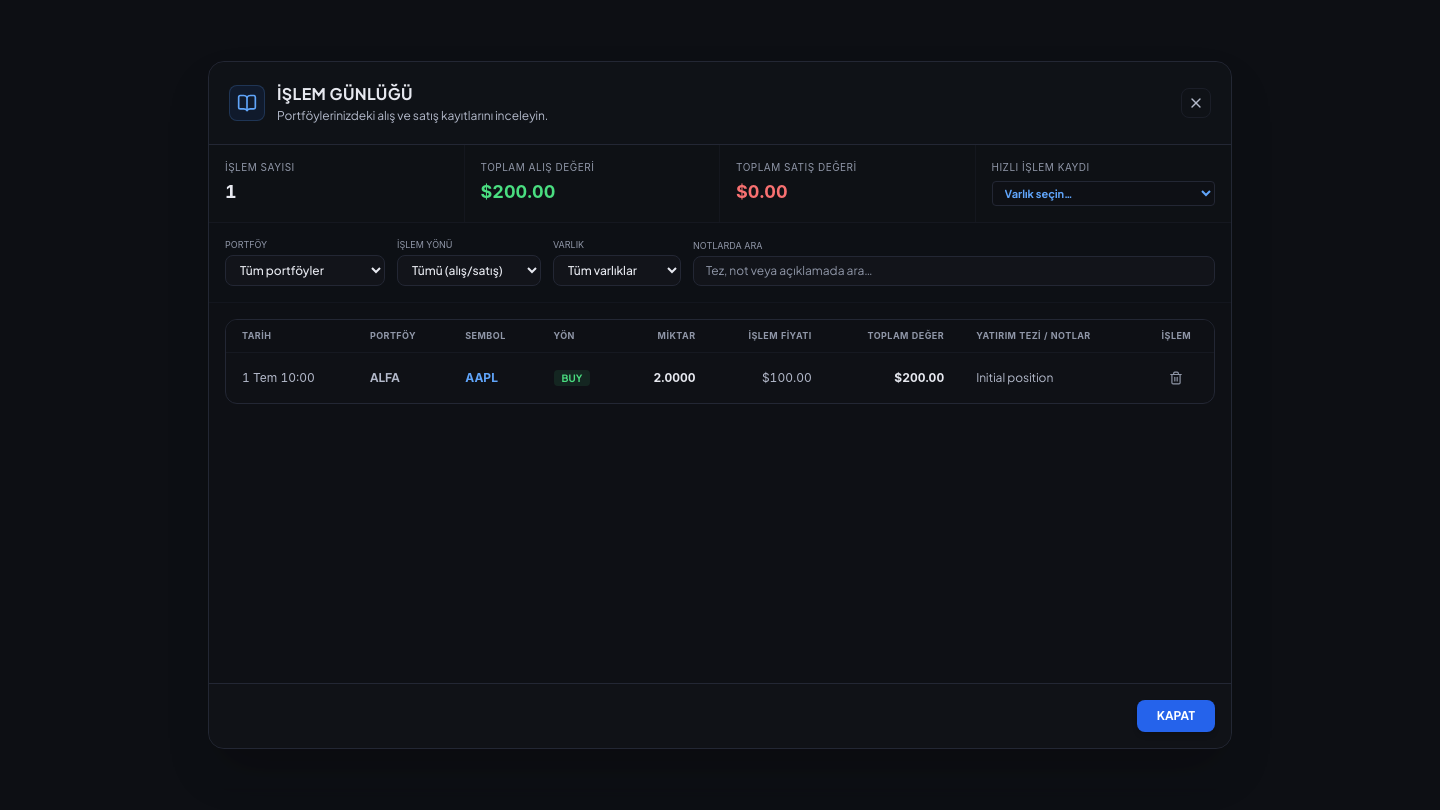
it: TradingJournalModal › shows the backend 409 message when deleting a transaction is refused
The width and height of the screenshot is (1440, 810).
Click the button named "İşlemi sil" at (1176, 378), box [1163,365,1189,391]
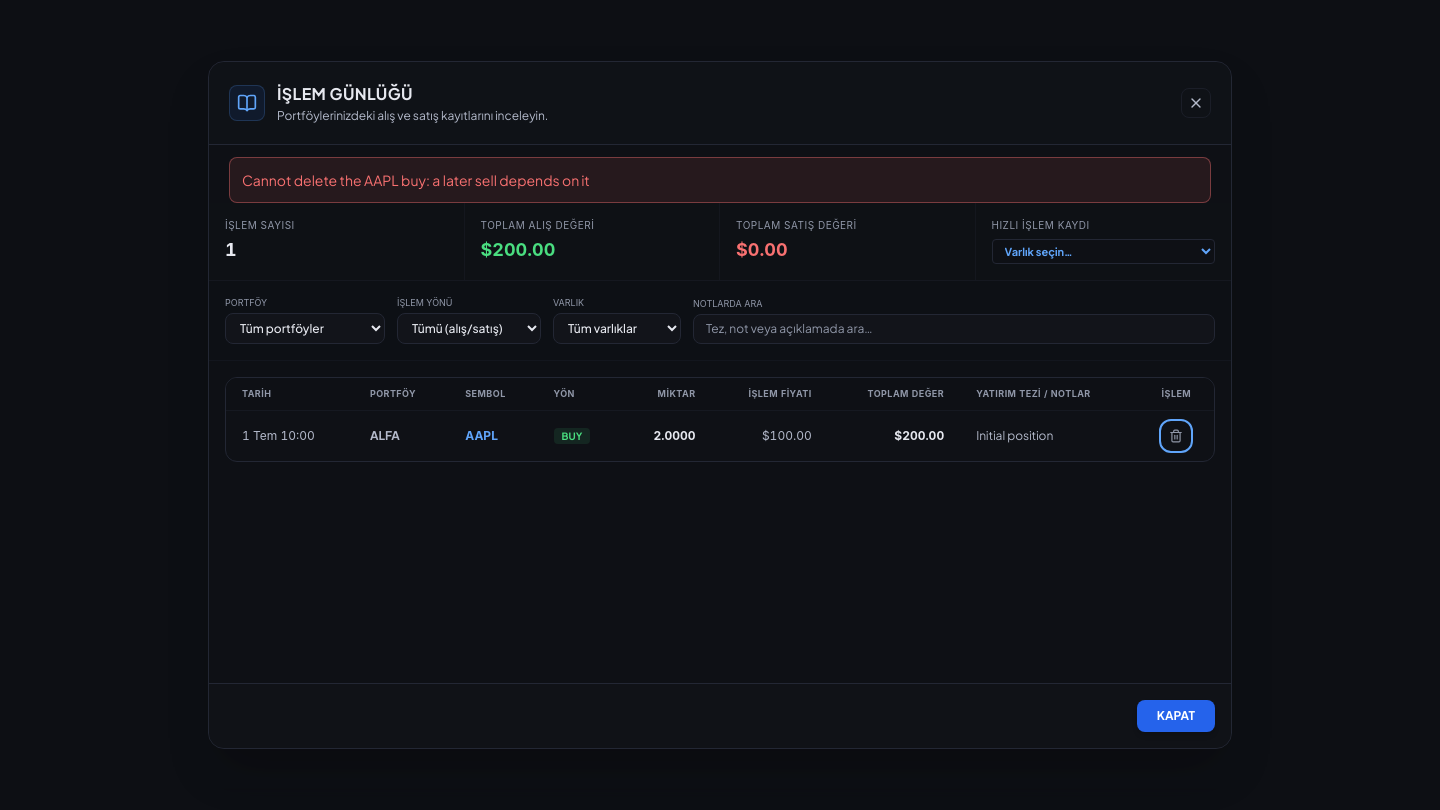
Expected: the message reads "Cannot delete the AAPL buy: a later sell depends on it", [242,171,590,189]
